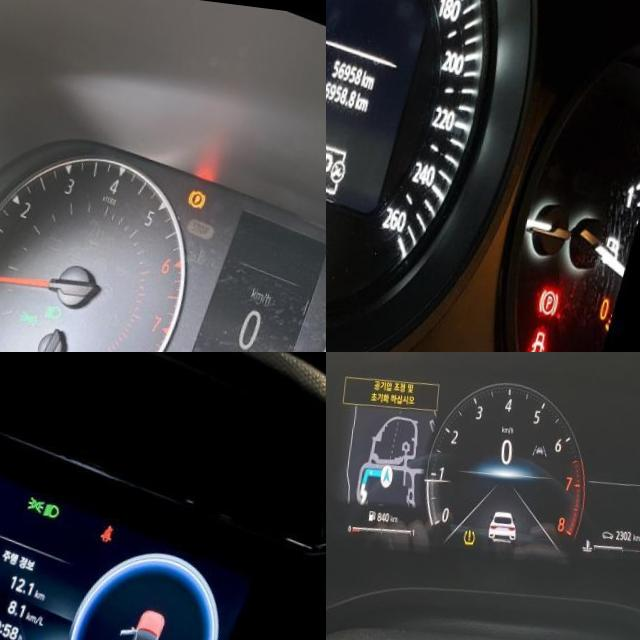Doors: (536, 314, 559, 352)
Low beam: (45, 490, 67, 512)
SideLamp: (30, 484, 52, 506)
